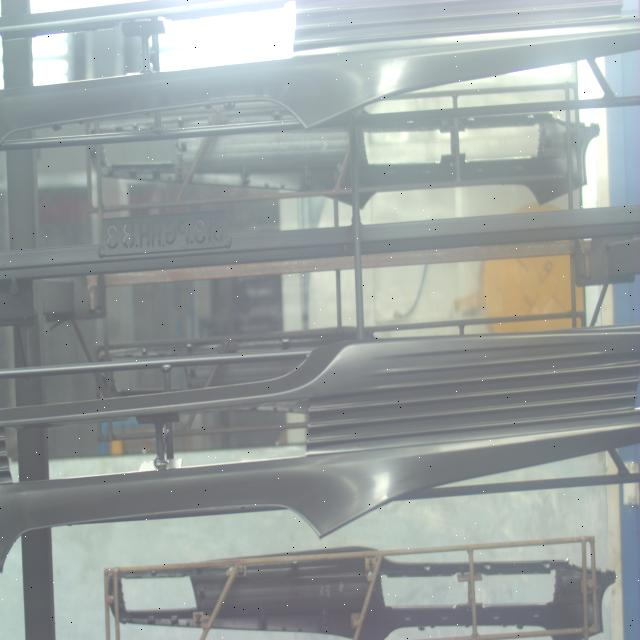Non_primered: (0, 325, 638, 588), (4, 0, 640, 137)
